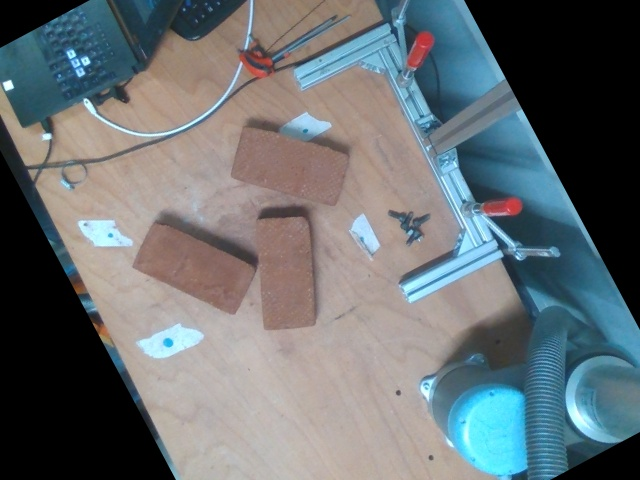brick: (131, 219, 255, 313), (230, 128, 348, 204), (257, 217, 313, 327)
